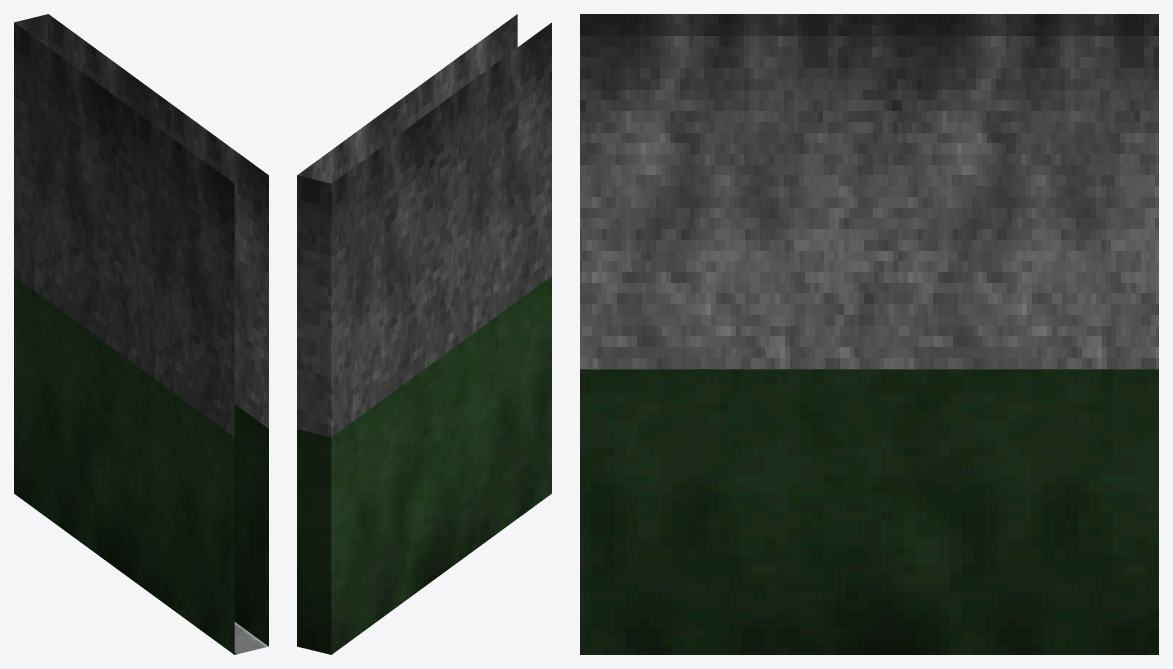
Rendered from primary_284.glb.
3 views of the same model, side by side, from view 1: azimuth 30°, elevation 25°; view 2: azimuth 150°, elevation 25°; view 3: azimuth 270°, elevation 25° (orthographic). The views are drawn at different scales.
Parts seen in each view (by area): view 1: Object; view 2: Object; view 3: Object.
Boxes of the visible parts, x1=… form: Object: x1=14, y1=14, x2=268, y2=654; Object: x1=297, y1=14, x2=551, y2=654; Object: x1=580, y1=14, x2=1158, y2=654.
Size of the model in its own units: 0.2009 by 2.63 by 2.23.
Materials: 6 (6 with a texture image).
